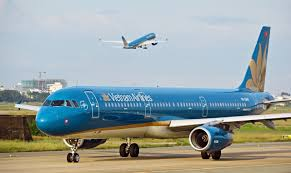maybay_dansu: (19, 36, 291, 156), (100, 28, 169, 53)
